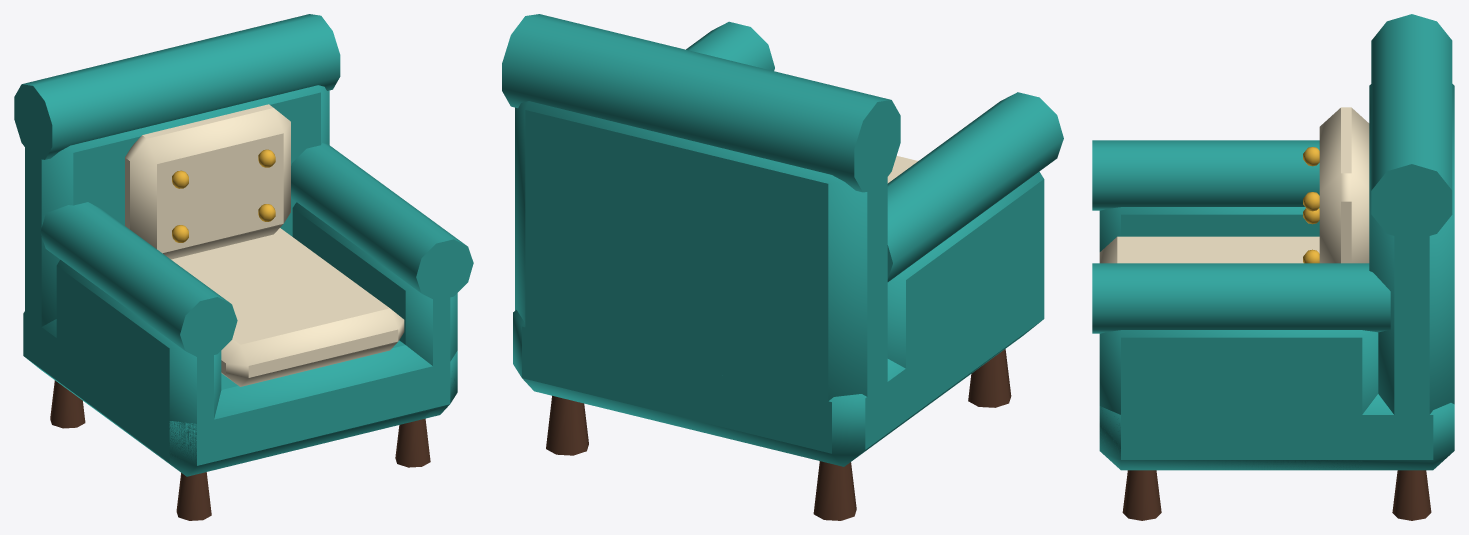
The model's file is armchair.glb.
The picture shows the model from 3 angles, left to right: view 1: azimuth 30°, elevation 25°; view 2: azimuth 150°, elevation 25°; view 3: azimuth 270°, elevation 25°; orthographic projection. The views are drawn at different scales.
Parts seen in each view (by area): view 1: armchair; view 2: armchair; view 3: armchair.
Boxes of the visible parts, <box> form: armchair: <box>14,14,473,520</box>; armchair: <box>502,14,1063,520</box>; armchair: <box>1092,14,1454,520</box>.
Bounding box in the file's own units: 1.02 × 1.14 × 1.02.
